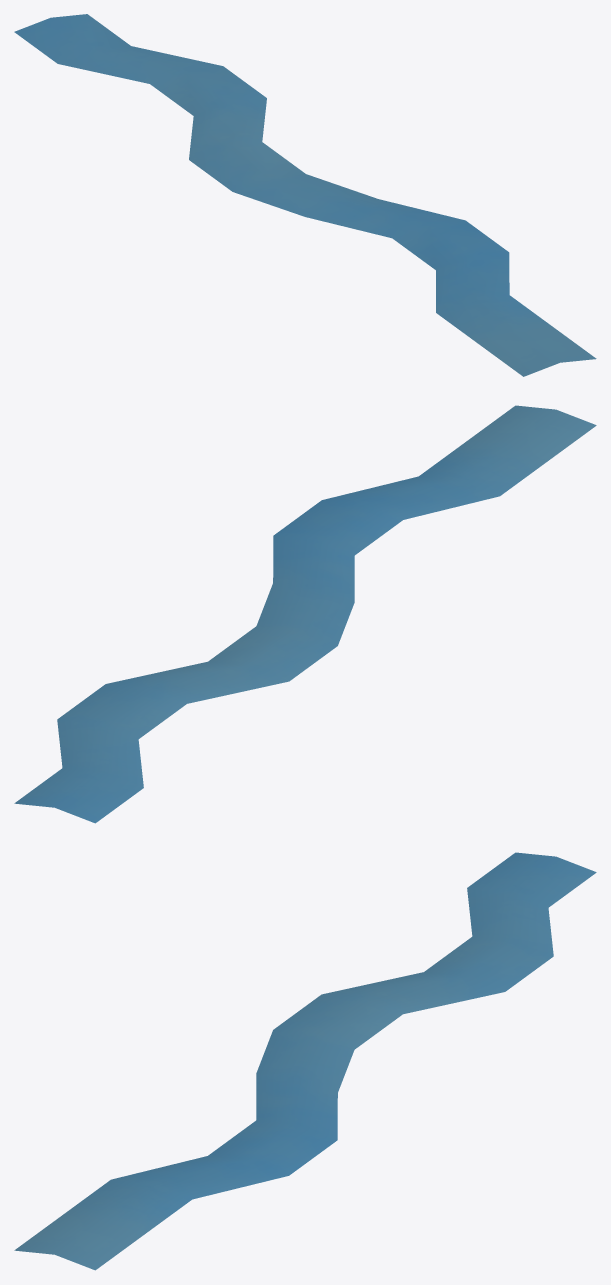
File: river.glb
The picture shows the model from 3 angles, top to bottom: view 1: azimuth 30°, elevation 25°; view 2: azimuth 150°, elevation 25°; view 3: azimuth 330°, elevation 25°; orthographic projection. The views are drawn at different scales.
Visible parts, largest first — view 1: river; view 2: river; view 3: river.
Boxes of the visible parts, left/top/right/bottom form: river: left=14, top=14, right=596, bottom=376; river: left=14, top=405, right=596, bottom=823; river: left=14, top=852, right=596, bottom=1270.
Size of the model in its own units: 5.24 by 0.1803 by 30.
1 material, 1 textured.
